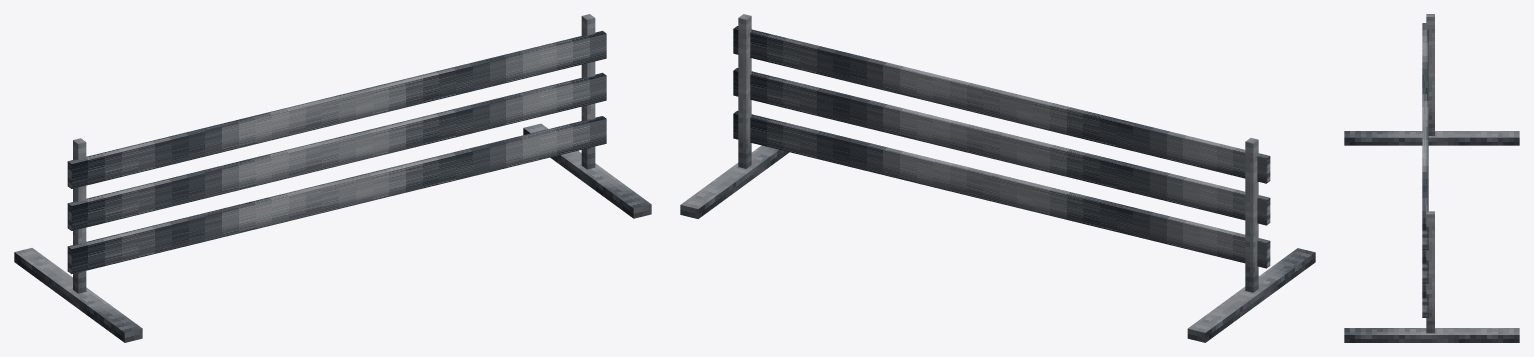
The model's file is env_streetbarricade_large.glb.
3 views of the same model, side by side, from view 1: azimuth 30°, elevation 25°; view 2: azimuth 150°, elevation 25°; view 3: azimuth 270°, elevation 25° (orthographic). The views are drawn at different scales.
Parts seen in each view (by area): view 1: env_streetbarricade_large; view 2: env_streetbarricade_large; view 3: env_streetbarricade_large.
Part boxes in pixels (box(x1,y1,x2,y2)): env_streetbarricade_large: box(14, 14, 651, 342); env_streetbarricade_large: box(680, 14, 1315, 342); env_streetbarricade_large: box(1344, 14, 1519, 342).
Bounding box in the file's own units: 0.0024 × 0.000684 × 0.000857.
1 material, 1 textured.
